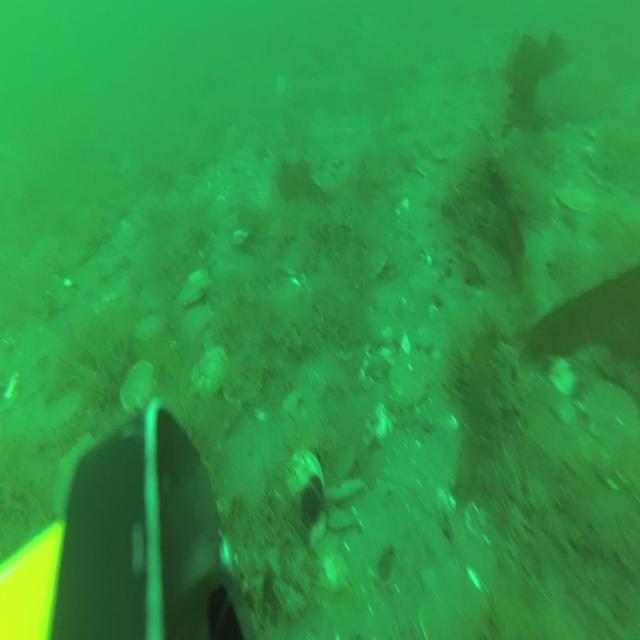scallop: (417, 554, 487, 640), (587, 375, 640, 446), (286, 446, 324, 507), (191, 343, 231, 398), (120, 358, 158, 412), (391, 352, 424, 406), (555, 182, 594, 218), (179, 266, 211, 308), (183, 306, 216, 344)
